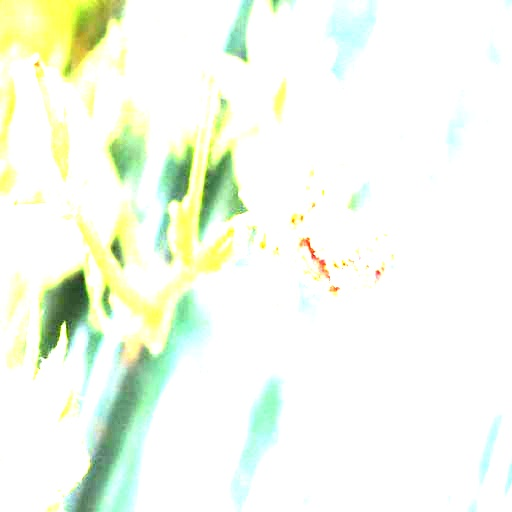Gray Mold: (240, 120, 412, 380)
